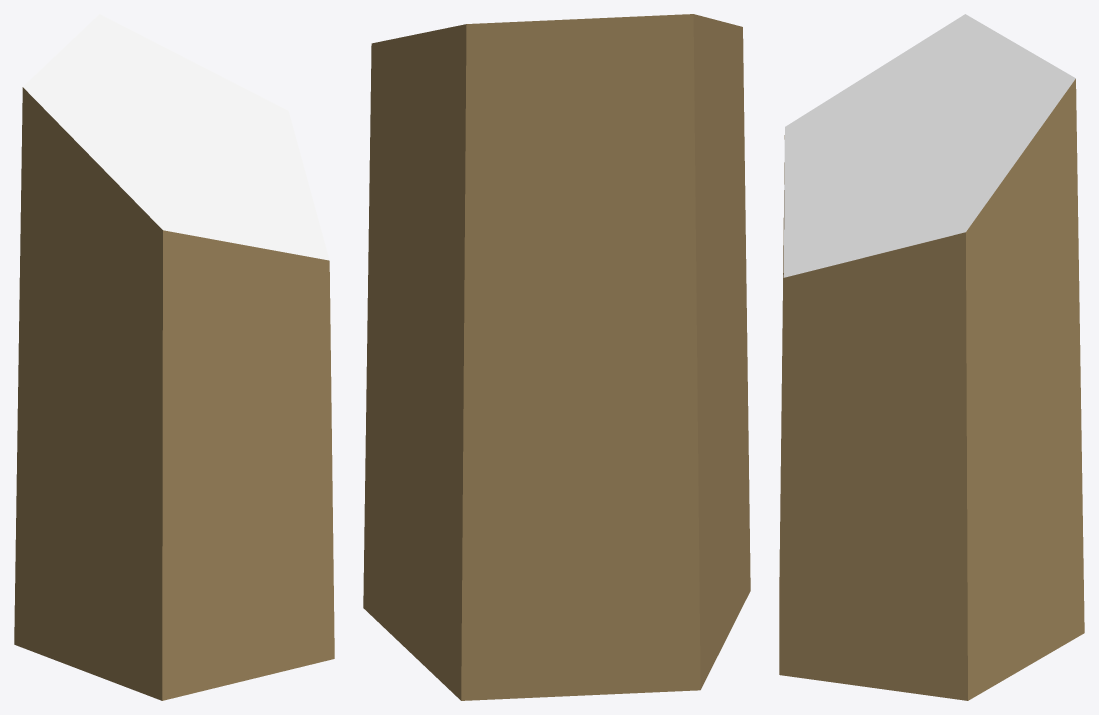
Rendered from Thuja_Stump_Snow_02_LOD.fbx.
3 renders of one model, left to right at view 1: azimuth 30°, elevation 25°; view 2: azimuth 150°, elevation 25°; view 3: azimuth 270°, elevation 25°, orthographic. The views are drawn at different scales.
Visible parts, largest first — view 1: Thuja_Stump_Snow_02_LOD0; view 2: Thuja_Stump_Snow_02_LOD0; view 3: Thuja_Stump_Snow_02_LOD0.
Part boxes in pixels (x1,y1,x2,y2): Thuja_Stump_Snow_02_LOD0: (14, 14, 334, 700); Thuja_Stump_Snow_02_LOD0: (363, 14, 750, 700); Thuja_Stump_Snow_02_LOD0: (779, 14, 1084, 700).
Size of what is drawn, in the model's own units: 25.41 by 48.45 by 24.17.
